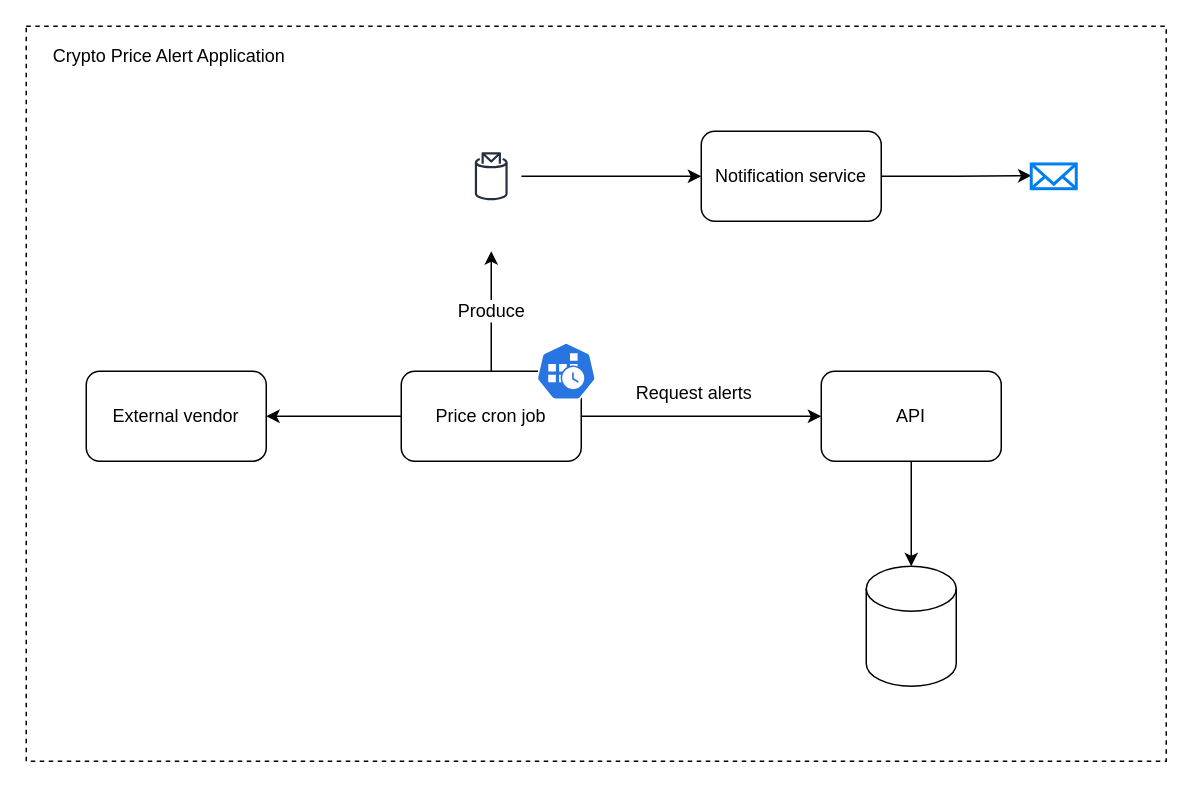
This 1193x788 diagram has some shape labels left out. The shapes that lost their labels are listed below. From the top down, each one's box as (x1, y1, x2, y2) in pixels, then its label:
(460, 145, 521, 206): topic: send-email
(865, 565, 956, 686): alerts
